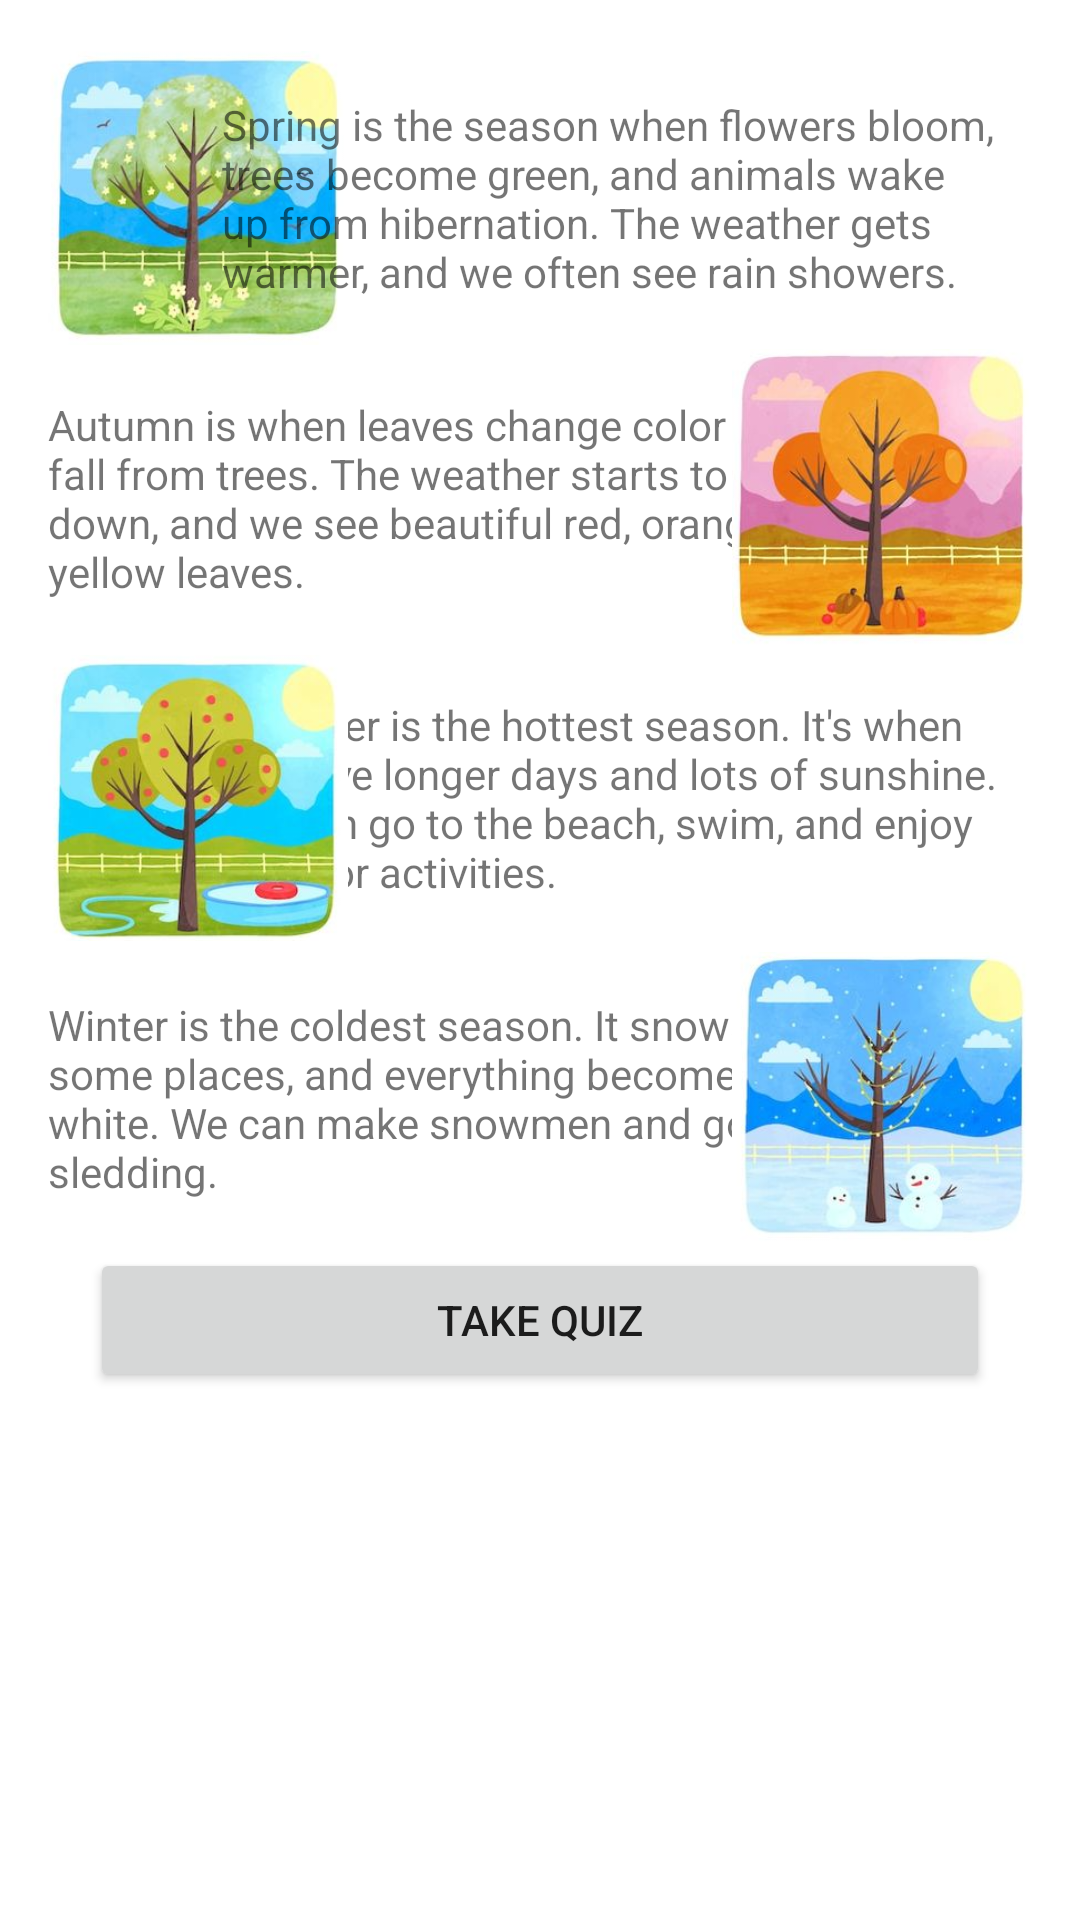

Named icons in this screenshot (1080x1920) and their bounding boxes, (x1, y1, x2, y2):
kis: (744, 959, 1025, 1233)
sonbahar: (738, 356, 1024, 637)
yaz: (56, 663, 336, 938)
